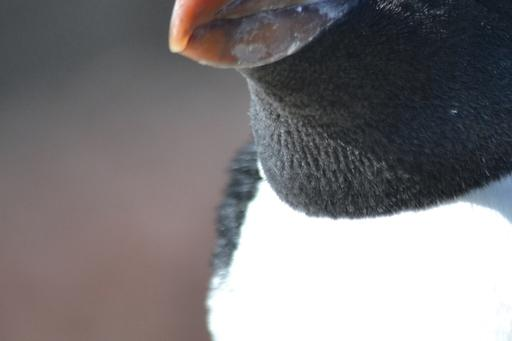Southern Rockhopper Penguin: (101, 0, 512, 336)
